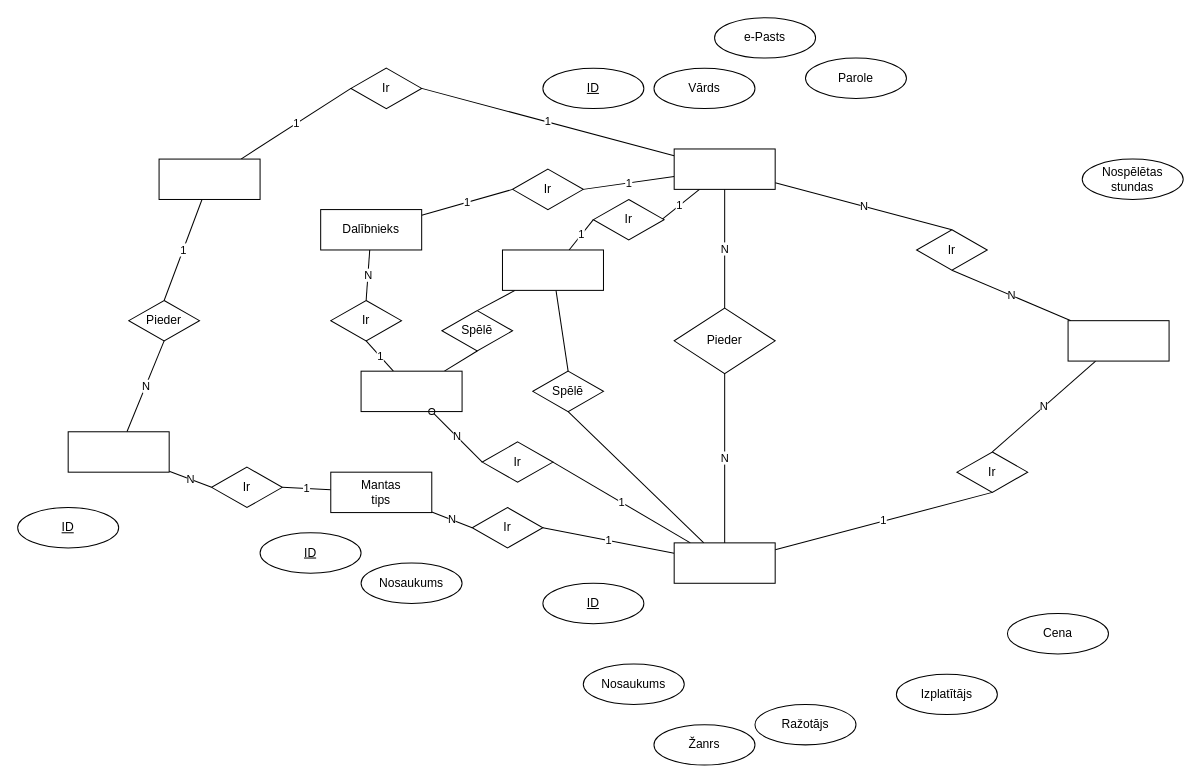
Some shapes in this 1201 by 783 pixel diagram are drawn without their labels. Each missing label, with the centre of its shape:
"Aktivititāte" goes at (552,269).
"Inventārs" goes at (209,178).
"Lietotājs" goes at (724,168).
"Manta" goes at (118,451).
"Sasniegumi" goes at (1118,340).
"Serveris" goes at (411,391).
"Spēle" goes at (724,562).
